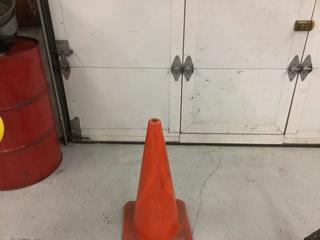power_cell: (1, 110, 8, 147)
